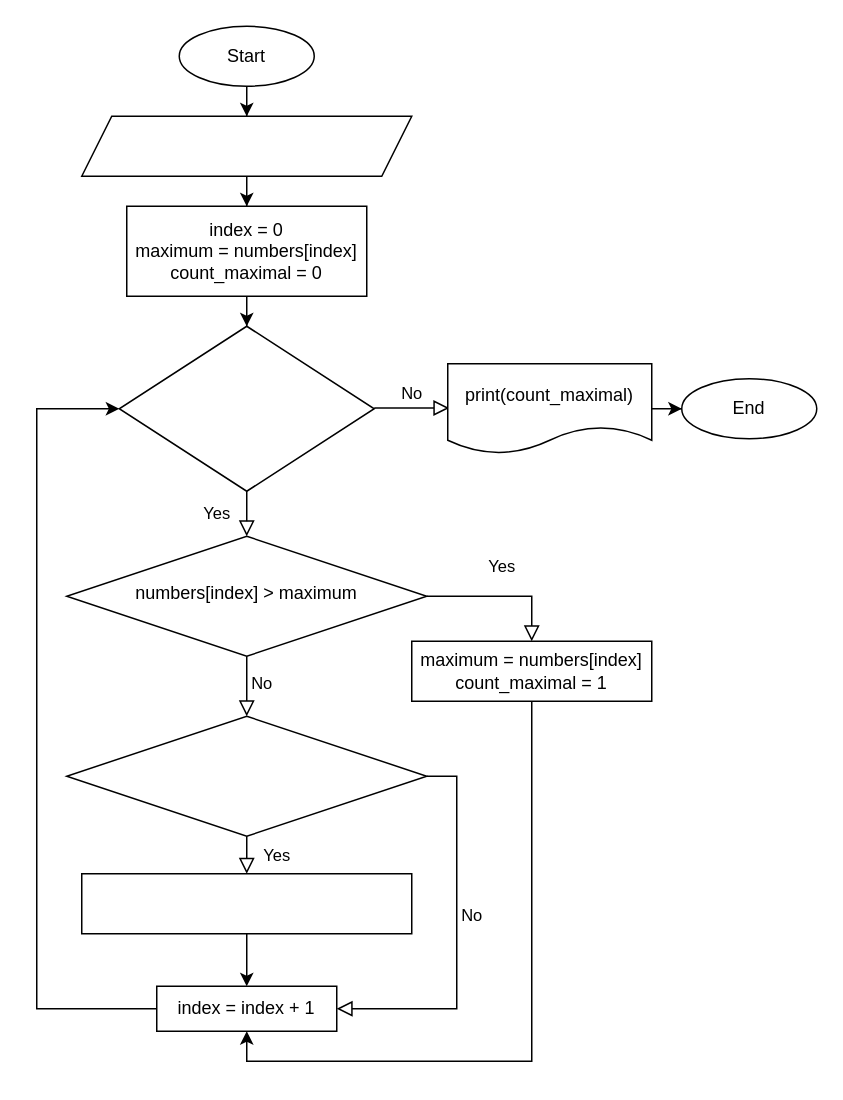
Some shapes in this 843 by 1100 pixel diagram are drawn without their labels. The shapes that lost their labels are listed below. From the top down, each one's centre as x and y in pixels, then its label:
At pixel 246 145: "numbers = [1, 8, 3, 8, 2, 6, 8, 8]".
At pixel 246 408: "Index < numbers.length".
At pixel 246 775: "numbers[index] == maximum".
At pixel 246 903: "count_maximal = count_maximal + 1".
